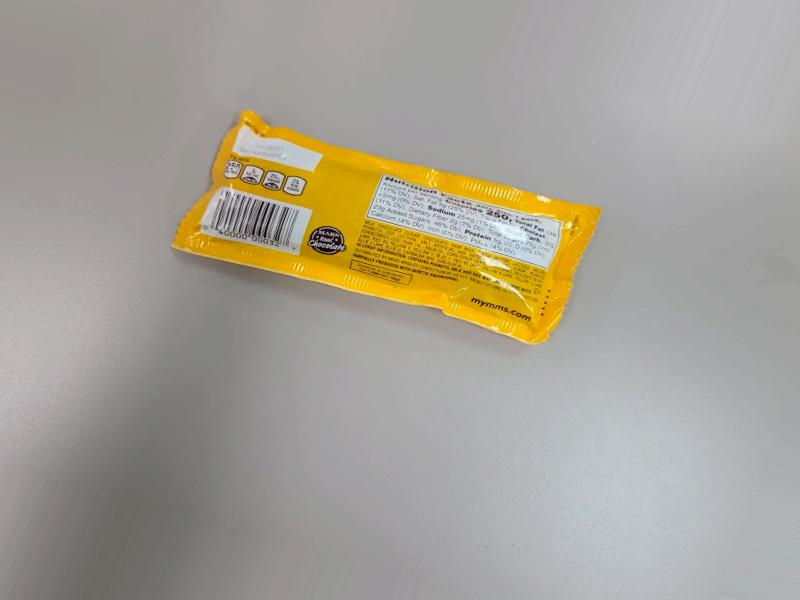m&m: (145, 112, 607, 339)
